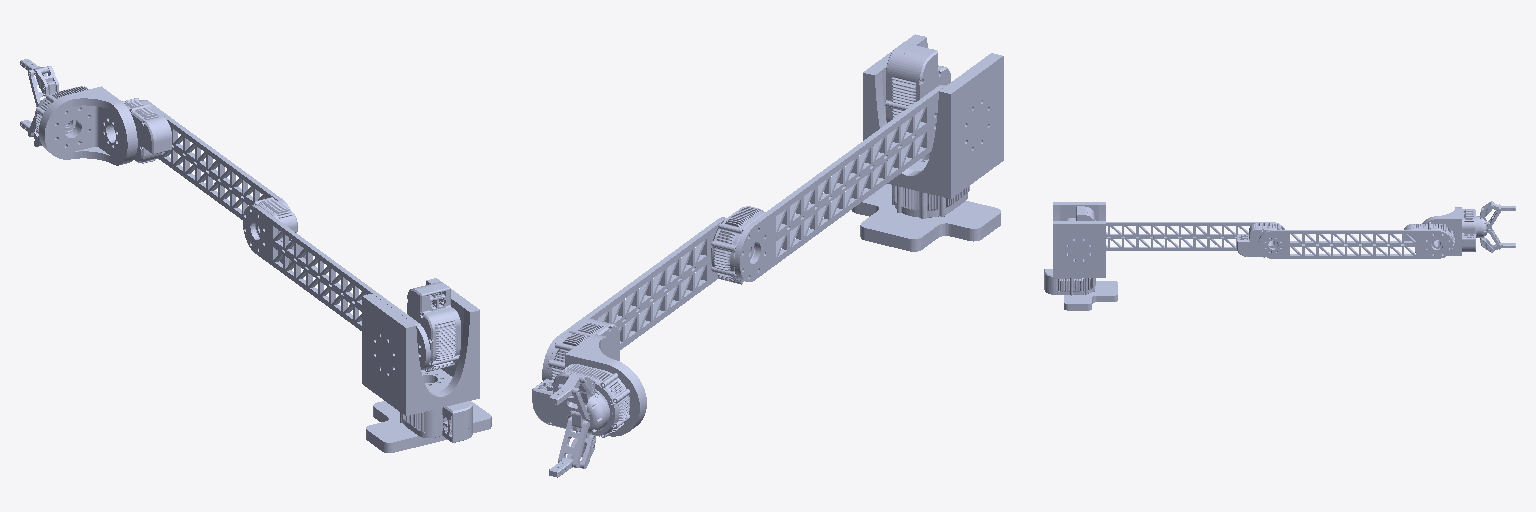
URDF robot description (chessrobot):
<?xml version="1.0"?>

<robot
  name="chessrobot">

  <link name="world"/>
  <joint name="placement" type="fixed">
    <parent link="world"/>
    <child link="base_link"/>
    <origin xyz="0.0 0.0 0.0" rpy="0 0 0"/>
  </joint>
  <link
    name="base_link">
    <visual>
      <origin
        xyz="0 0 0"
        rpy="0 0 0" />
      <geometry>
        <mesh
          filename="package://final_demo/meshes/base.stl" 
          scale = "0.001 0.001 0.001" />
      </geometry>
      <material
        name="">
        <color
          rgba="0.792156862745098 0.819607843137255 0.933333333333333 1" />
      </material>
    </visual>
  </link>

  <link
    name="link_1">
    <visual>
      <origin
        xyz="0 0 0"
        rpy="0 0 0" />
      <geometry>
        <mesh
          filename="package://final_demo/meshes/link_1.stl"
          scale = "0.0001 0.0001 0.0001" />
      </geometry>
      <material
        name="">
        <color
          rgba="0.792156862745098 0.819607843137255 0.933333333333333 1" />
      </material>
    </visual>
  </link>
  <joint
    name="joint_1"
    type="continuous">
    <origin
      xyz="-0.079523 0.032086 0.06005"
      rpy="0 0 0" />
    <parent
      link="base_link" />
    <child
      link="link_1" />
    <axis
      xyz="0 0 1" />
  </joint>

  <link
    name="link_2">
    <visual>
      <origin
        xyz="0.0 -0.032 -0.036"
        rpy="0 0 0" />
      <geometry>
        <mesh
          filename="package://final_demo/meshes/link_2.stl"
          scale = "0.0001 0.0001 0.0001" />
      </geometry>
      <material
        name="">
        <color
          rgba="0.792156862745098 0.819607843137255 0.933333333333333 1" />
      </material>
    </visual>
  </link>
  <joint
    name="joint_2"
    type="continuous">
    <origin
      xyz="-0.015 0.0 0.066"
      rpy="0 0 0" />
    <parent
      link="link_1" />
    <child
      link="link_2" />
    <axis
      xyz="-1 0 0" />
  </joint>

  <link
    name="link_3">
    <visual>
      <origin
        xyz="0.0 0.0 0.0"
        rpy="1.5708 0 1.5708" />
      <geometry>
        <mesh
          filename="package://final_demo/meshes/link_3_new.stl"
          scale = "0.001 0.001 0.001" />
      </geometry>
      <material
        name="">
        <color
          rgba="0.792156862745098 0.819607843137255 0.933333333333333 1" />
      </material>
    </visual>
  </link>
  <joint
    name="joint_3"
    type="continuous">
    <origin
      xyz="0.037 0.41 0"
      rpy="0 0 0" />
    <parent
      link="link_2" />
    <child
      link="link_3" />
    <axis
      xyz="1 0 0" />
  </joint>

  <link
    name="link_4">
    <visual>
      <origin
        xyz="0.0 0.0 0.0"
        rpy="0 0 0" />
      <geometry>
        <mesh
          filename="package://final_demo/meshes/link_4.stl"
          scale = "0.0001 0.0001 0.0001" />
      </geometry>
      <material
        name="">
        <color
          rgba="0.792156862745098 0.819607843137255 0.933333333333333 1" />
      </material>
    </visual>
  </link>
  <joint
    name="joint_4"
    type="continuous">
    <origin
      xyz="-0.04 0.347 0"
      rpy="0 0 0" />
    <parent
      link="link_3" />
    <child
      link="link_4" />
    <axis
      xyz="-1 0 0" />
  </joint>
  
 <link
    name="link_5">
    <visual>
      <origin
        xyz="0.0 0.0 0.0"
        rpy="0 0 0" />
      <geometry>
        <mesh
          filename="package://final_demo/meshes/link_5.stl"
          scale = "0.0001 0.0001 0.0001" />
      </geometry>
      <material
        name="">
        <color
          rgba="0.792156862745098 0.819607843137255 0.933333333333333 1" />
      </material>
    </visual>
  </link>
  <joint
    name="joint_5"
    type="continuous">
    <origin
      xyz="-0.05 0.05 0.0"
      rpy="0 0 0" />
    <parent
      link="link_4" />
    <child
      link="link_5" />
    <axis
      xyz="0 1 0" />
  </joint>

  <link name="tip"/>
  <joint name="joint_6" type="continuous">
    <parent link="link_5"/>
    <child link="tip"/>
    <origin xyz="0.01 0.13 -0.02" rpy="0 0 0"/>
    <axis xyz="0 1 0" />
  </joint>
</robot>


--- What the picture shows (computed from the rendered views, not written in the file) ---
The picture shows the robot from 3 angles, left to right: view 1: azimuth 30°, elevation 25°; view 2: azimuth 150°, elevation 25°; view 3: azimuth 270°, elevation 25°; orthographic projection.
Model chessrobot with 8 links and 7 joints (6 continuous, 1 fixed), rooted at world, posed all joints at 0.
Links seen in each view (by area): view 1: link_1, link_2, link_4, link_3, base_link, link_5; view 2: link_1, link_2, link_3, base_link, link_4, link_5; view 3: link_3, link_1, link_2, base_link, link_4, link_5.
Boxes of the visible links, <box> form: link_1: <box>362,278,479,415</box>; link_2: <box>243,197,430,369</box>; link_4: <box>36,86,137,165</box>; link_3: <box>122,98,290,219</box>; base_link: <box>366,401,491,452</box>; link_5: <box>20,59,70,146</box>; link_1: <box>863,34,1003,198</box>; link_2: <box>711,85,946,284</box>; link_3: <box>542,217,726,380</box>; base_link: <box>852,184,1000,251</box>; link_4: <box>532,334,646,437</box>; link_5: <box>549,372,609,477</box>; link_3: <box>1258,222,1454,258</box>; link_1: <box>1053,202,1105,277</box>; link_2: <box>1106,222,1284,257</box>; base_link: <box>1044,269,1117,310</box>; link_4: <box>1422,207,1476,255</box>; link_5: <box>1477,201,1515,252</box>.
Bounding box of the posed robot: 0.1906 × 0.9933 × 0.2 m (x, y, z).
Meshes: 6 distinct files referenced, 6 mesh visuals loaded (6 binary STL).